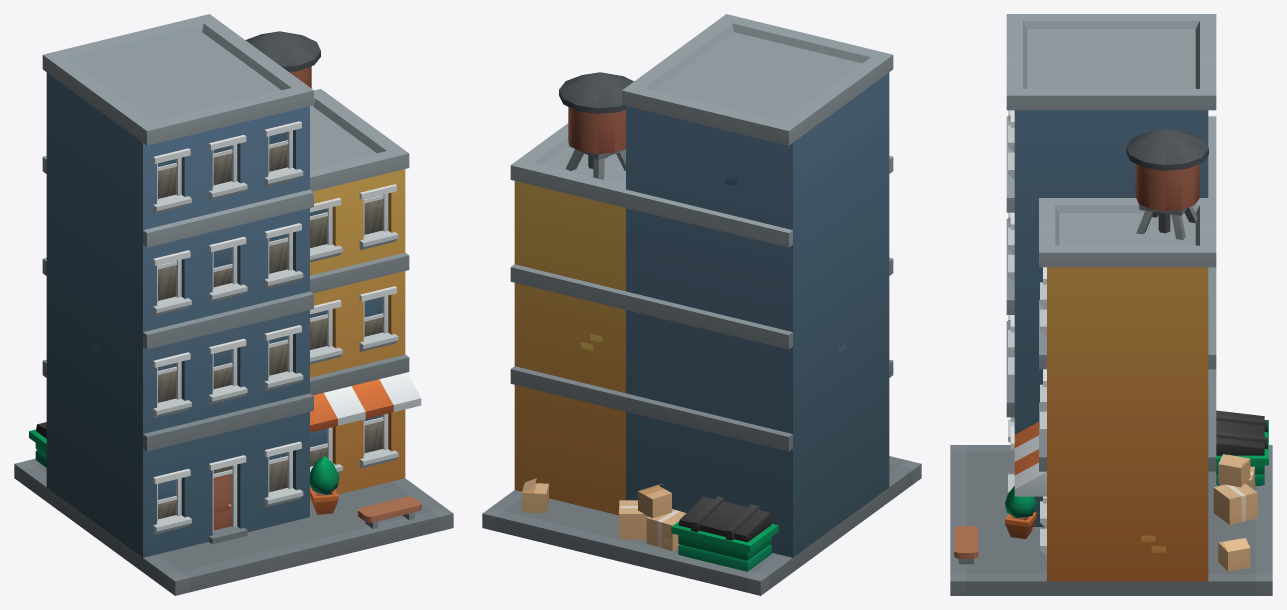
The model's file is building_free_model_b_b_b_b_b_b.glb.
The picture shows the model from 3 angles, left to right: view 1: azimuth 30°, elevation 25°; view 2: azimuth 150°, elevation 25°; view 3: azimuth 270°, elevation 25°; orthographic projection.
Parts seen in each view (by area): view 1: building_H; view 2: building_H; view 3: building_H.
Part boxes in pixels (x1,y1,x2,y2): building_H: [14, 14, 453, 595]; building_H: [482, 14, 921, 595]; building_H: [950, 14, 1272, 595].
Size of the model in its own units: 2.01 by 3.05 by 2.
Materials: 1 (1 with a texture image).
